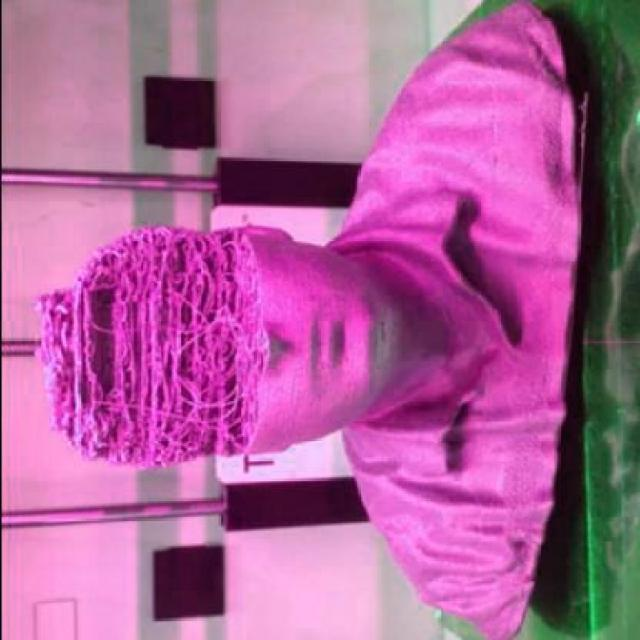spaghetti: (29, 222, 282, 478)
